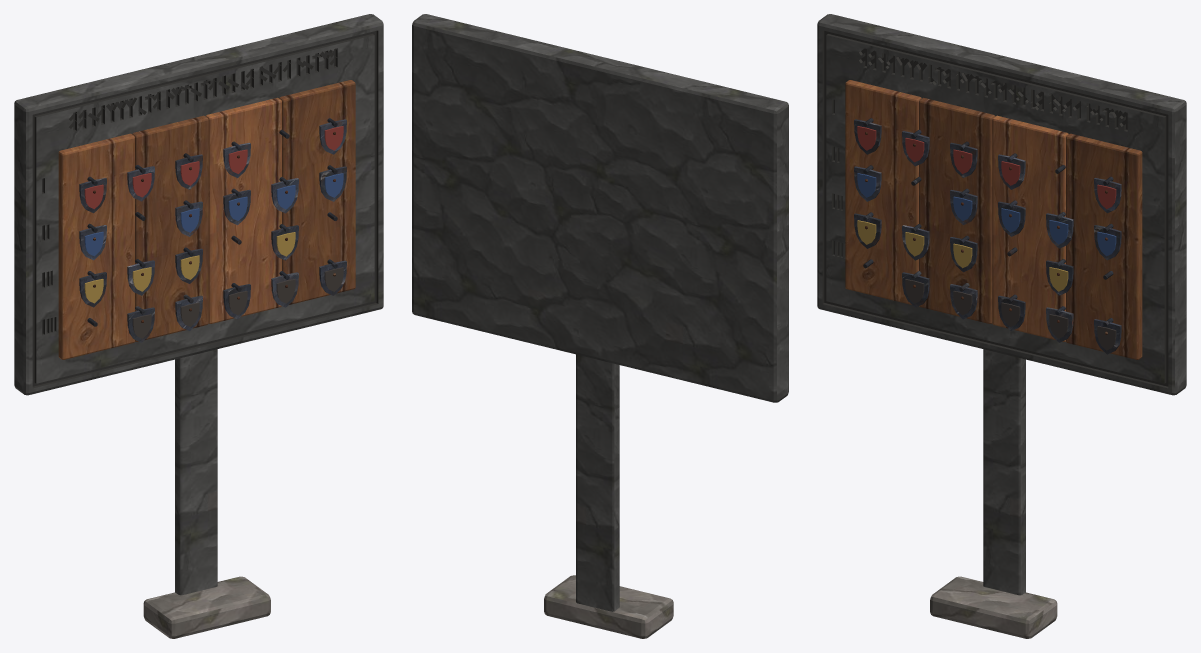
Rendered from hs_duty_roster.glb.
The picture shows the model from 3 angles, left to right: view 1: azimuth 30°, elevation 25°; view 2: azimuth 150°, elevation 25°; view 3: azimuth 330°, elevation 25°; orthographic projection.
Visible parts, largest first — view 1: model; view 2: model; view 3: model.
Part boxes in pixels (x1=…): model: x1=14, y1=14, x2=383, y2=638; model: x1=412, y1=14, x2=788, y2=638; model: x1=817, y1=14, x2=1186, y2=638.
Size of the model in its own units: 1.2 by 1.76 by 0.17.
14 materials, 9 textured.
